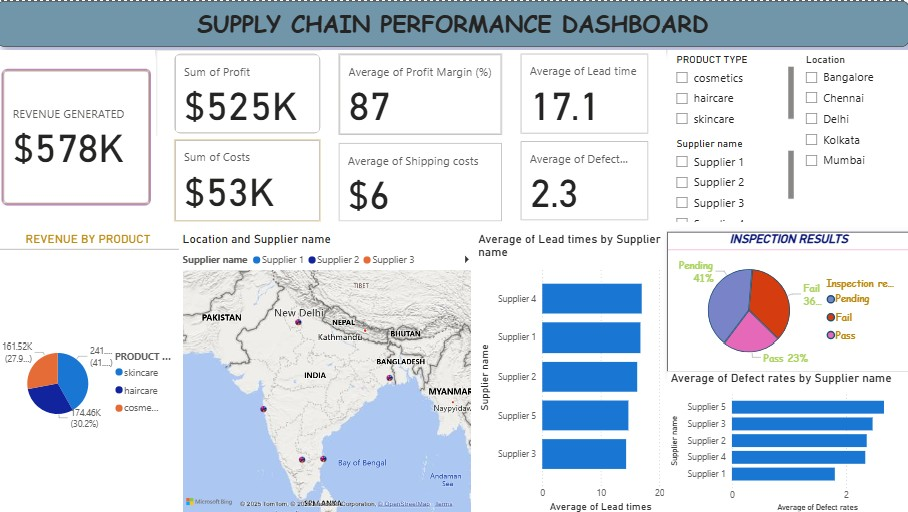

Layout of this report page (visuals, bound fields, positions):
{"tool":"powerbi","page":{"name":"SUPPLY CHAIN PERFORMANCE DASHBOARD","canvas":[1280,720],"ordinal":0},"visuals":[{"type":"textbox","box":[0,0,1279.3,63.8],"z":0},{"type":"cardVisual","title":"REVENUE GENERATED","fields":{"Data":["Sum(supply_chain_data_cleaned.Revenue generated)"]},"box":[0,69,222.4,244.8],"z":1000},{"type":"cardVisual","fields":{"Data":["Sum(supply_chain_data_cleaned.Profit)"]},"box":[222.4,69,255.2,122.4],"z":2000},{"type":"cardVisual","fields":{"Data":["Avg(supply_chain_data_cleaned.Profit Margin (%))"]},"box":[453.4,69,279.3,124.1],"z":3000},{"type":"pieChart","title":"REVENUE BY PRODUCT","fields":{"Category":["supply_chain_data_cleaned.PRODUCT TYPE"],"Y":["Sum(supply_chain_data_cleaned.Revenue generated)"]},"box":[0,324.1,255.2,396.6],"z":4000},{"type":"cardVisual","fields":{"Data":["Avg(supply_chain_data_cleaned.Lead time)"]},"box":[710,68.8,229.8,122.5],"z":5000},{"type":"cardVisual","fields":{"Data":["Avg(supply_chain_data_cleaned.Shipping costs)"]},"box":[453.4,193.1,279.3,120.7],"z":6000},{"type":"cardVisual","fields":{"Data":["Sum(supply_chain_data_cleaned.Costs)"]},"box":[222.4,187.9,255.2,125.9],"z":7000},{"type":"cardVisual","fields":{"Data":["Avg(supply_chain_data_cleaned.Defect rates)"]},"box":[710,192.6,229.8,121.1],"z":8000},{"type":"clusteredBarChart","fields":{"Category":["supply_chain_data_cleaned.Supplier name"],"Y":["Avg(supply_chain_data_cleaned.Lead times)"]},"box":[669,324.1,270.7,396.6],"z":9000},{"type":"map","fields":{"Category":["supply_chain_data_cleaned.Location"],"Series":["supply_chain_data_cleaned.Supplier name"]},"box":[255.2,324.1,413.8,396.6],"z":10000},{"type":"pieChart","title":"INSPECTION RESULTS","fields":{"Category":["supply_chain_data_cleaned.Inspection results"],"Y":["CountNonNull(supply_chain_data_cleaned.Inspection results)"]},"box":[939.7,324.1,339.7,194.8],"z":11000},{"type":"clusteredBarChart","fields":{"Category":["supply_chain_data_cleaned.Supplier name"],"Y":["Avg(supply_chain_data_cleaned.Defect rates)"]},"box":[939.7,519,339.7,201.7],"z":12000},{"type":"slicer","fields":{"Values":["supply_chain_data_cleaned.PRODUCT TYPE"]},"box":[939.7,69,182.8,113.8],"z":13000},{"type":"slicer","fields":{"Values":["supply_chain_data_cleaned.Supplier name"]},"box":[941.4,186.2,182.8,127.6],"z":14000},{"type":"slicer","fields":{"Values":["supply_chain_data_cleaned.Location"]},"box":[1122.4,69,156.9,244.8],"z":15000}]}

Visuals, with their boxes in screenshot pixels (x1, y1, x2, y2), scaled from the page's 1280x720 canvas onto the 908x512 screenshot:
textbox: region(0, 0, 907, 45)
"REVENUE GENERATED" cardVisual: region(0, 49, 158, 223)
cardVisual - Sum(supply_chain_data_cleaned.Profit): region(158, 49, 339, 136)
cardVisual - Avg(supply_chain_data_cleaned.Profit Margin (%)): region(322, 49, 520, 137)
"REVENUE BY PRODUCT" pieChart: region(0, 230, 181, 511)
cardVisual - Avg(supply_chain_data_cleaned.Lead time): region(504, 49, 667, 136)
cardVisual - Avg(supply_chain_data_cleaned.Shipping costs): region(322, 137, 520, 223)
cardVisual - Sum(supply_chain_data_cleaned.Costs): region(158, 134, 339, 223)
cardVisual - Avg(supply_chain_data_cleaned.Defect rates): region(504, 137, 667, 223)
clusteredBarChart - supply_chain_data_cleaned.Supplier name x Avg(supply_chain_data_cleaned.Lead times): region(475, 230, 667, 511)
map - supply_chain_data_cleaned.Location x supply_chain_data_cleaned.Supplier name: region(181, 230, 475, 511)
"INSPECTION RESULTS" pieChart: region(667, 230, 907, 369)
clusteredBarChart - supply_chain_data_cleaned.Supplier name x Avg(supply_chain_data_cleaned.Defect rates): region(667, 369, 907, 511)
slicer - supply_chain_data_cleaned.PRODUCT TYPE: region(667, 49, 796, 130)
slicer - supply_chain_data_cleaned.Supplier name: region(668, 132, 797, 223)
slicer - supply_chain_data_cleaned.Location: region(796, 49, 907, 223)
